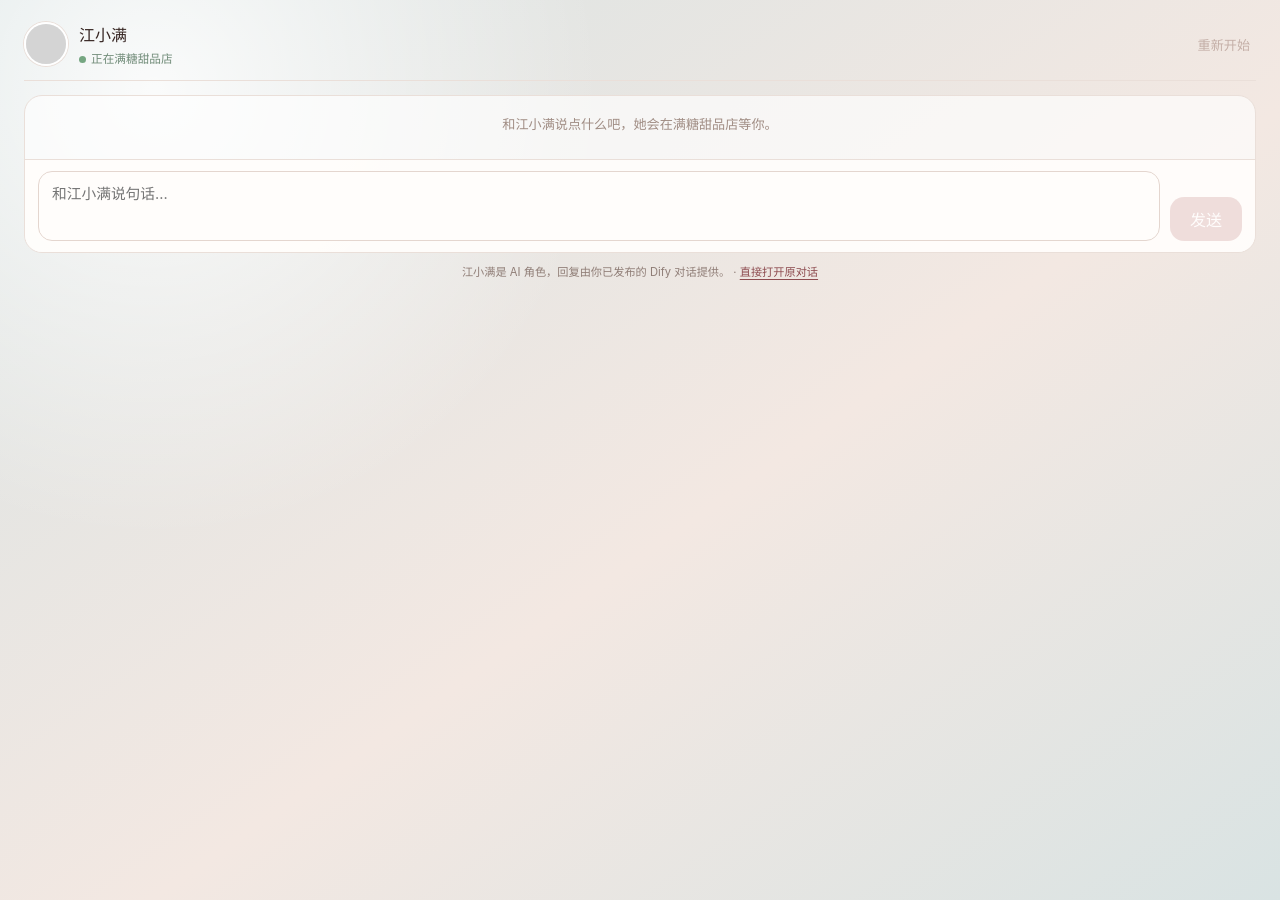
Test case: ChatPanel › replaces the Dify iframe with the approved two-avatar conversation
The image size is (1280, 900).
In the text box named "和江小满聊天": [599, 206] box [38,171,1160,241], type "你好"
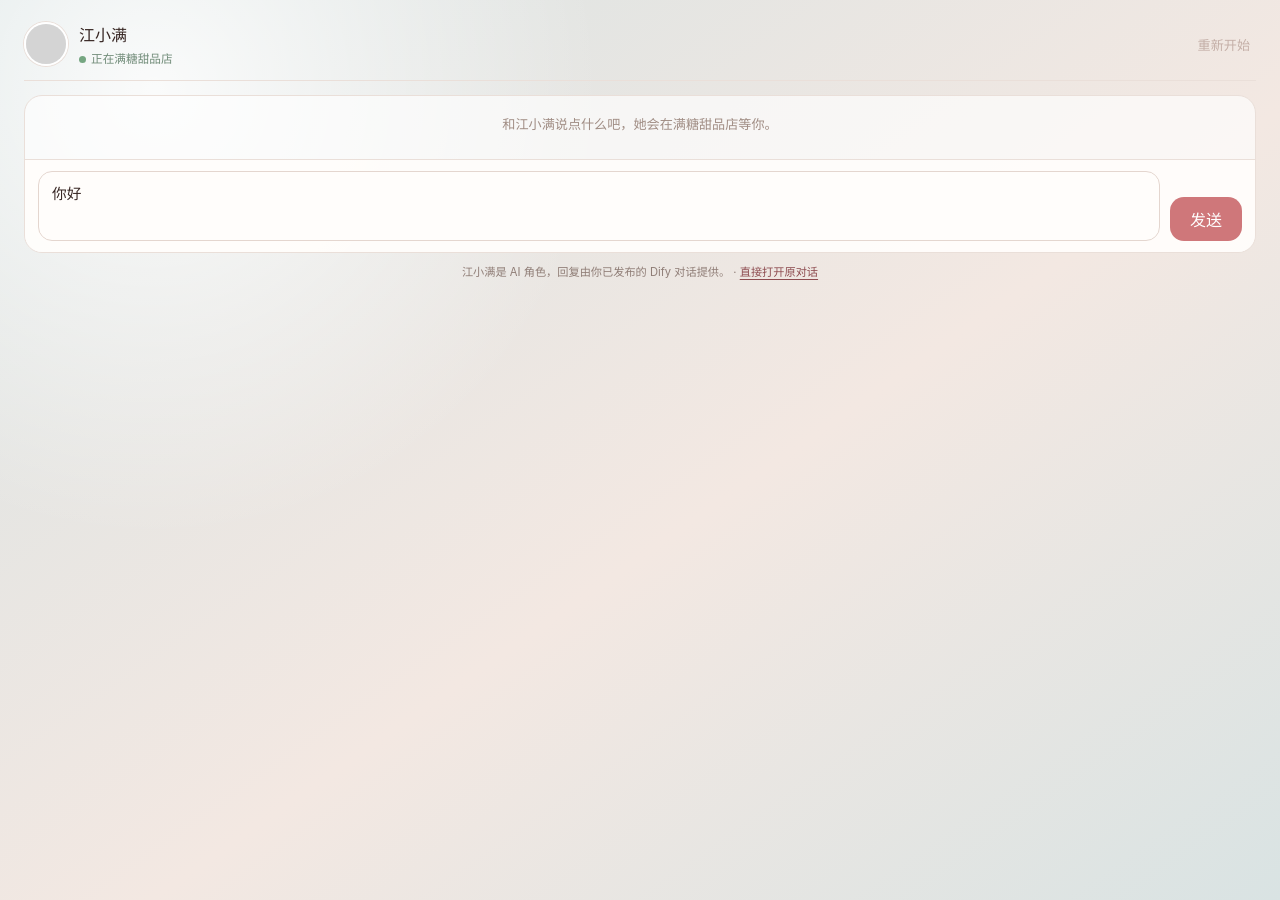
Press Enter in the text box named "和江小满聊天", box [38,171,1160,241]
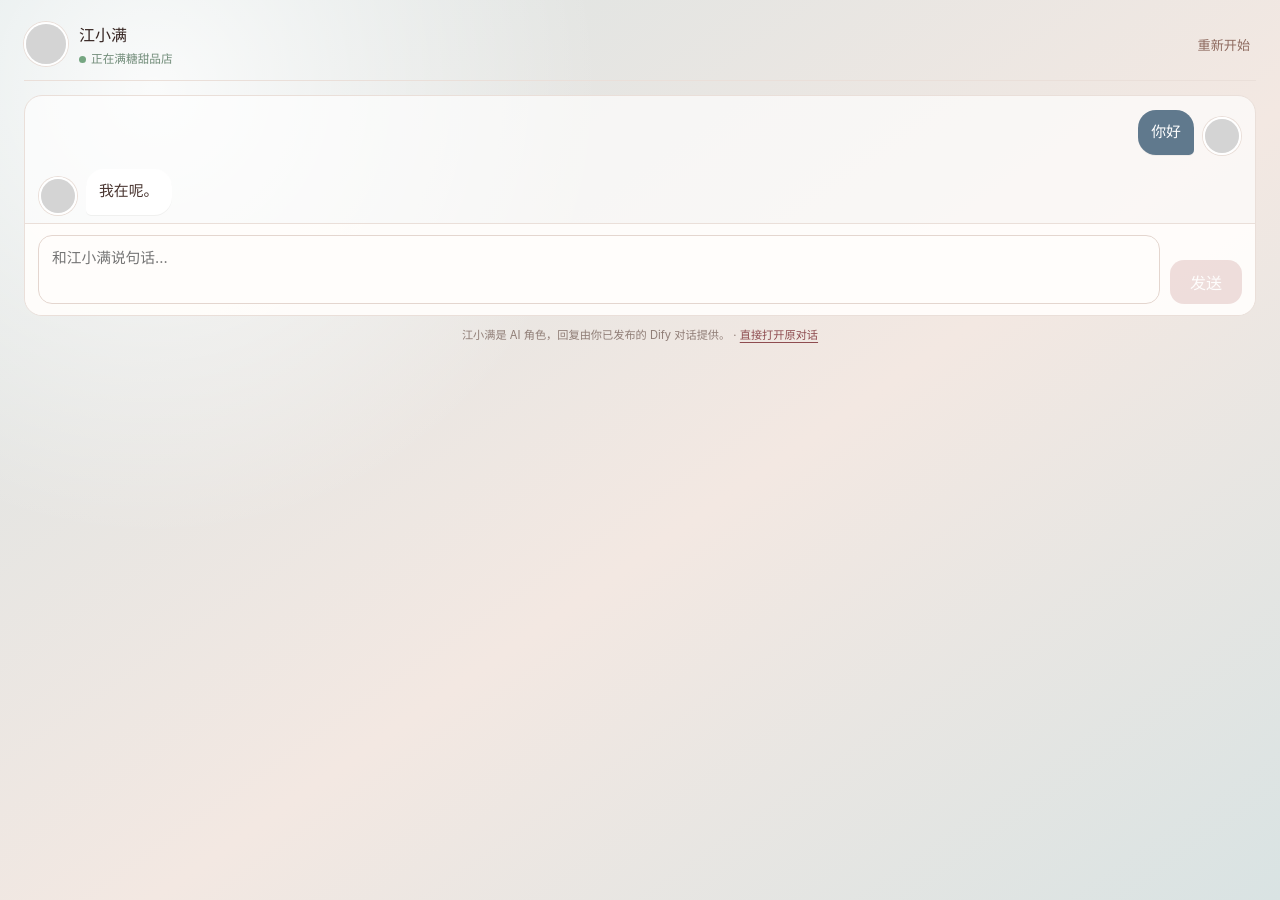
Result: the text "我在呢。" is shown at [86,169,172,215]
